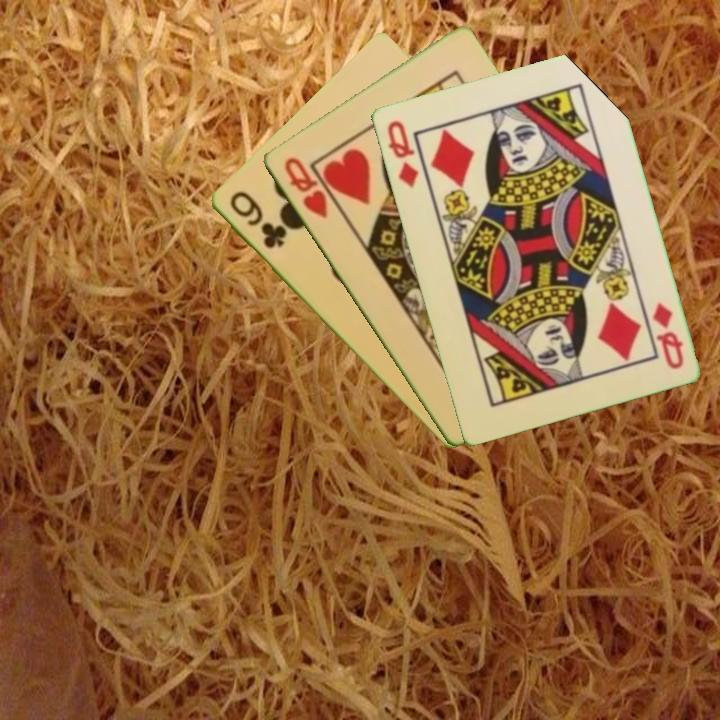9c: (225, 188, 289, 252)
Qd: (383, 116, 421, 191), (648, 298, 686, 372)
Qh: (280, 153, 330, 222)
